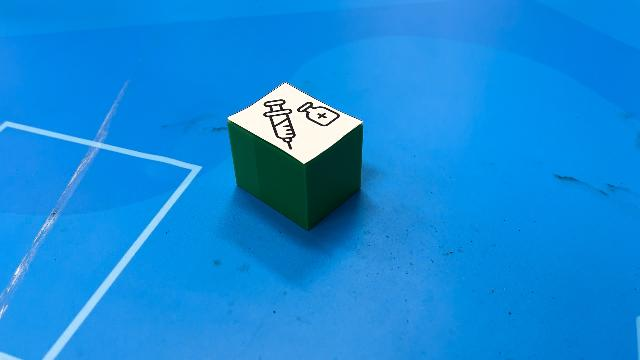syringe: (228, 84, 364, 230)
